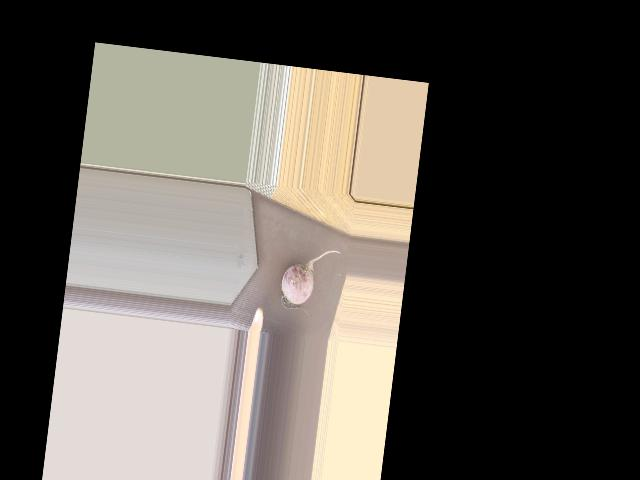beet: (278, 244, 340, 319)
